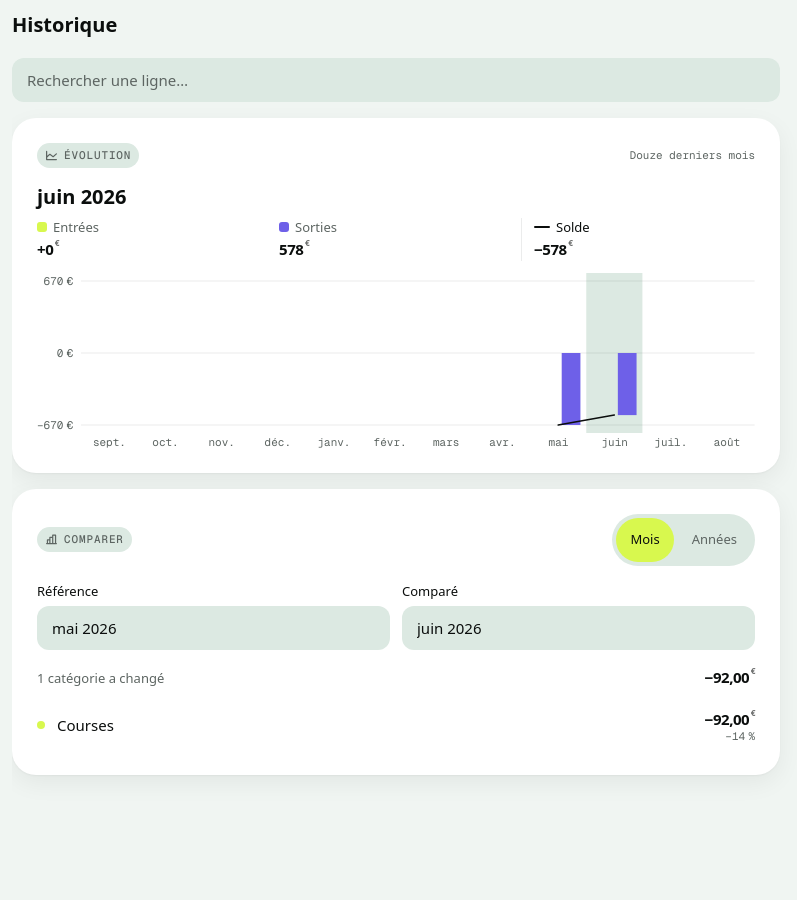
Test case: l’écran Historique › retrouve le couple de mois après un aller-retour
Select "mai 2026" in the dropdown labelled "Comparé" at (578, 628), box x1=402 y1=606 x2=755 y2=650
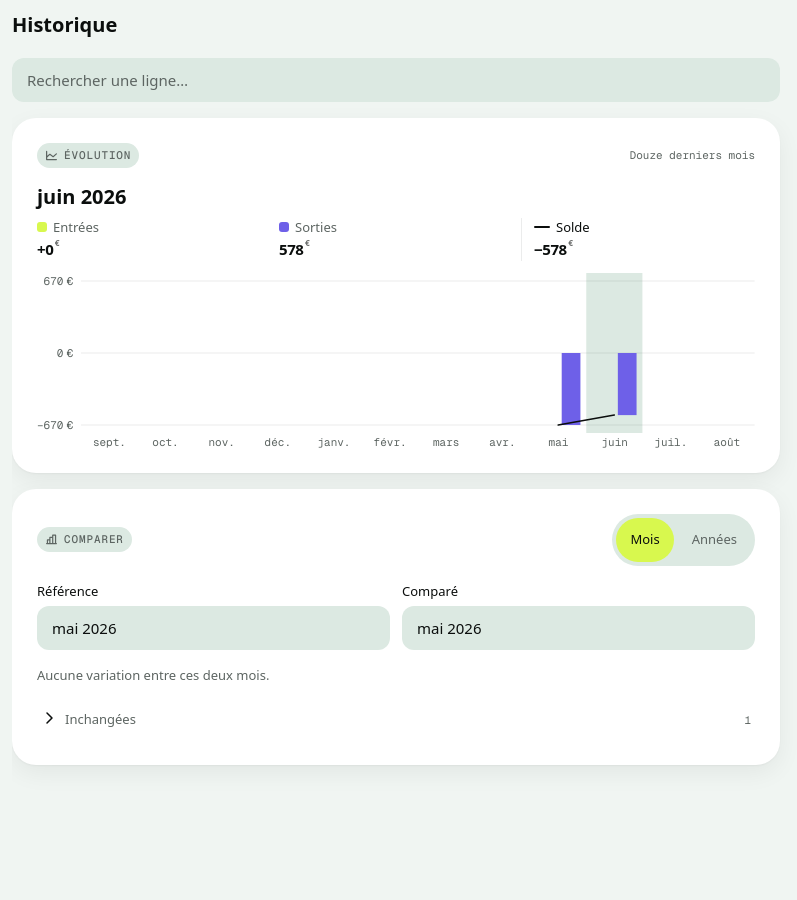
Click the radio button labelled "Années".
click(714, 540)  # box x1=678 y1=518 x2=751 y2=562
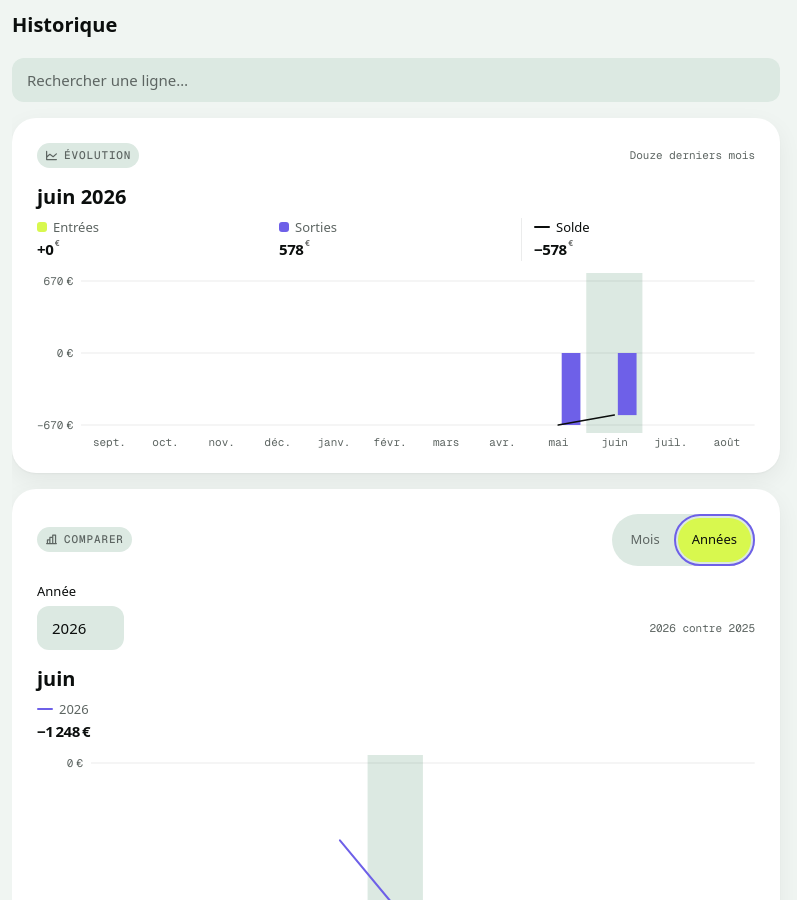
Click the radio button labelled "Mois".
click(645, 540)  # box x1=616 y1=518 x2=674 y2=562
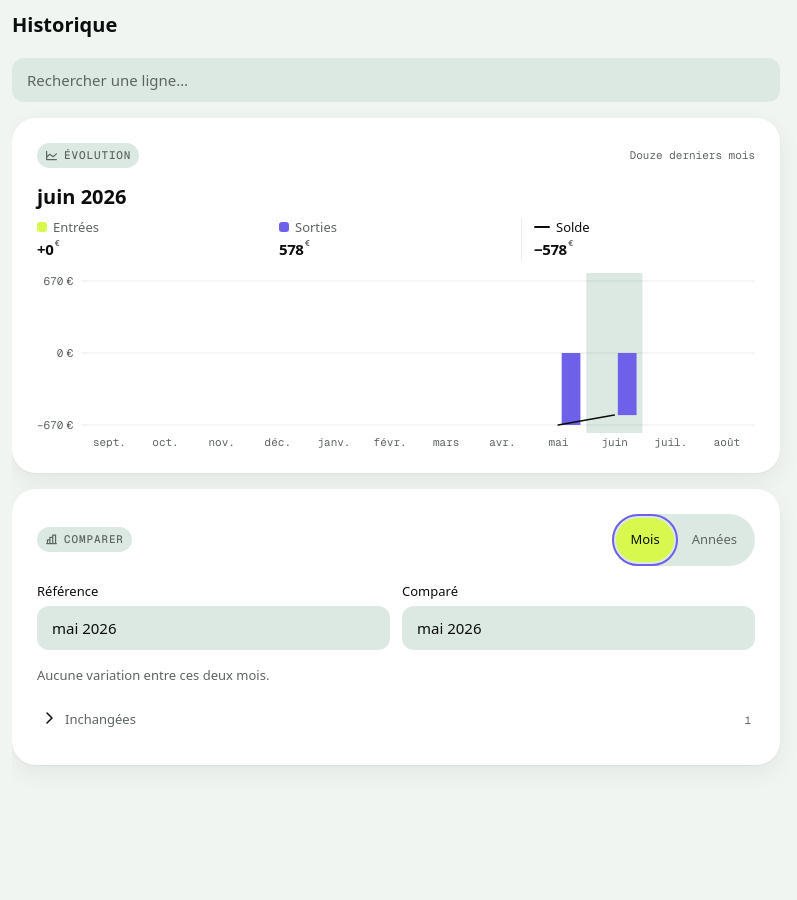
Result: the dropdown labelled "Comparé" shows "mai 2026" at x1=402 y1=606 x2=755 y2=650
